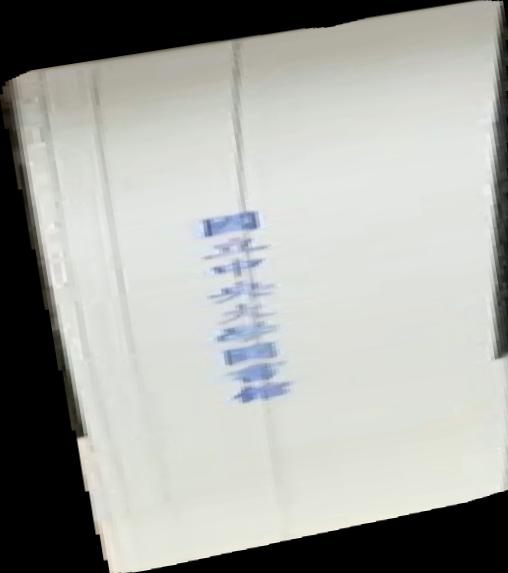backward: (1, 1, 508, 573)
